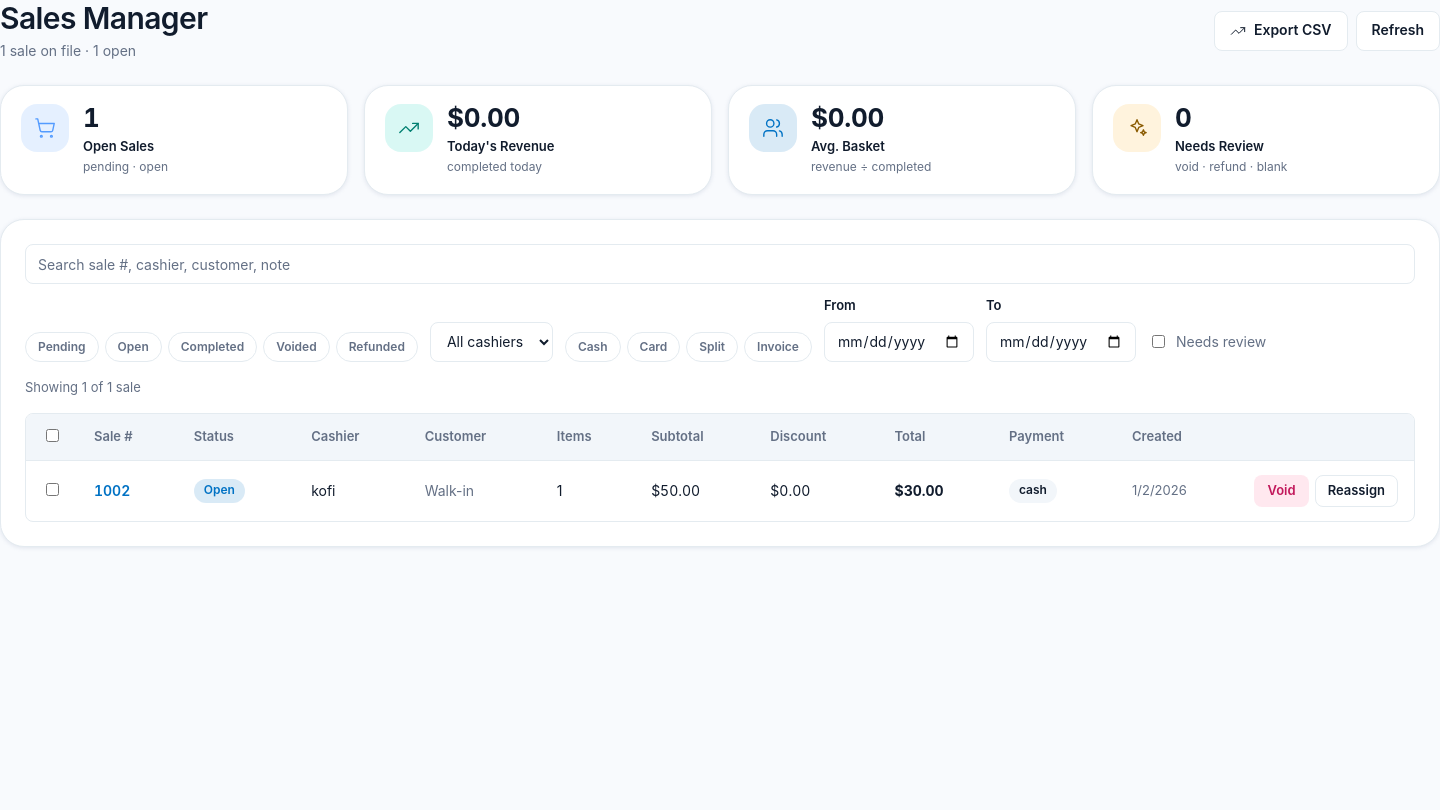
Test: SalesManagerPage — manager actions › voids an open sale through the confirmation modal
The image size is (1440, 810).
Click the button with test id "action-void" at x=1282, y=491, box [1254,475,1309,507]
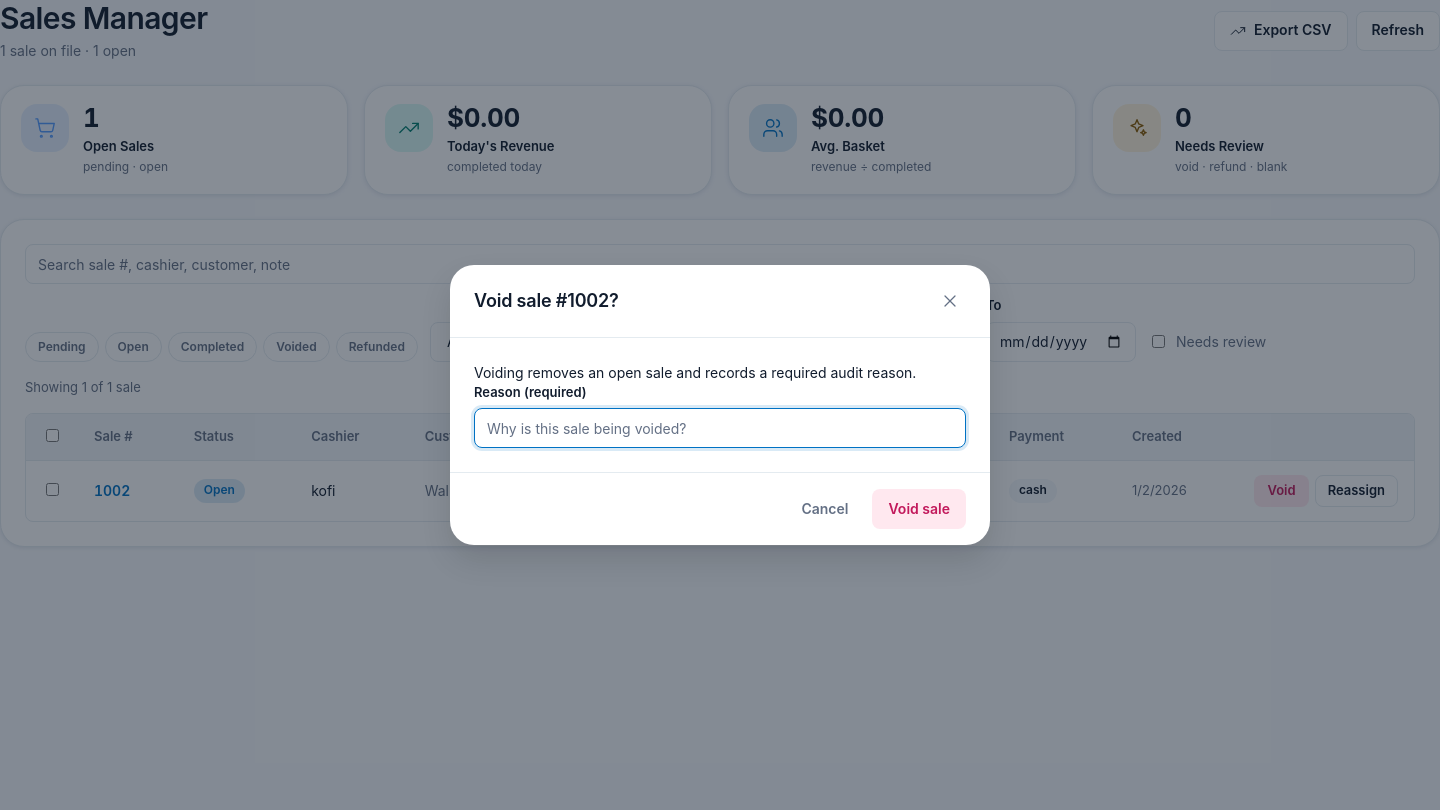
Now the dialog shows "Void sale #1002?", box [474,290,619,310]
Type "Duplicate entry" into the field labelled "Reason (required)" at x=720, y=428, box [474,408,966,448]
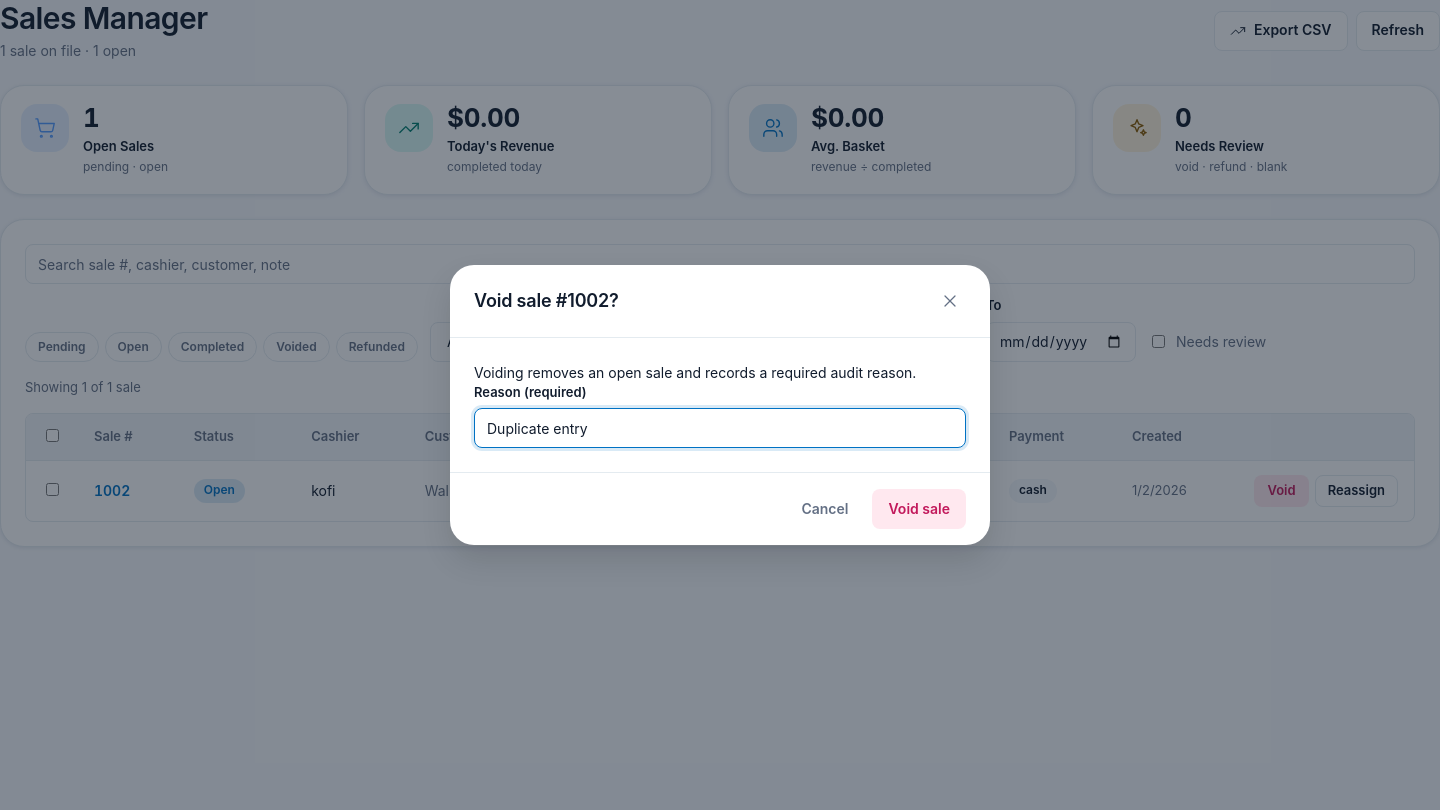
Click the button with test id "action-confirm" at x=919, y=509, box [872,489,966,529]
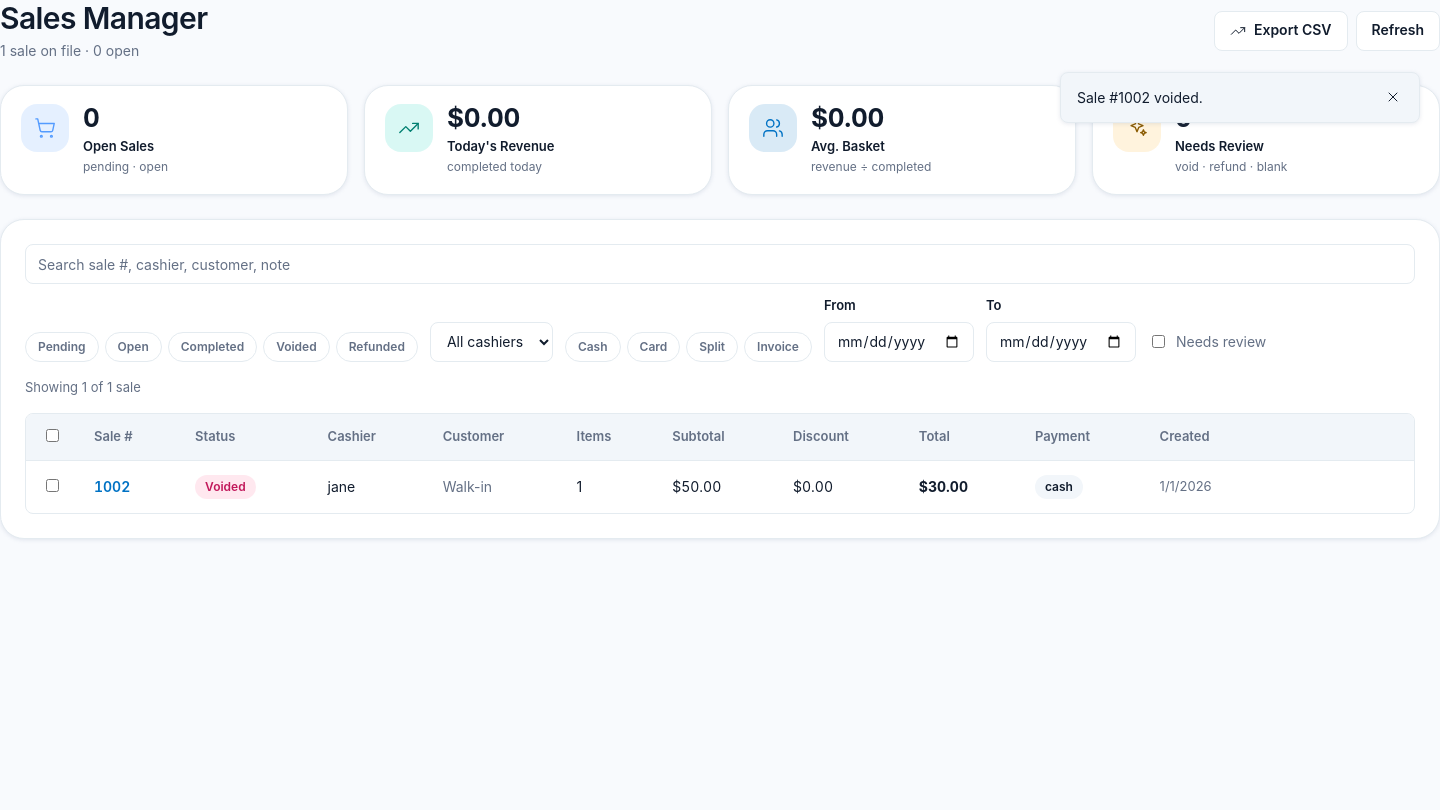
Now the text "Voided" is shown, box [195,475,256,499]
